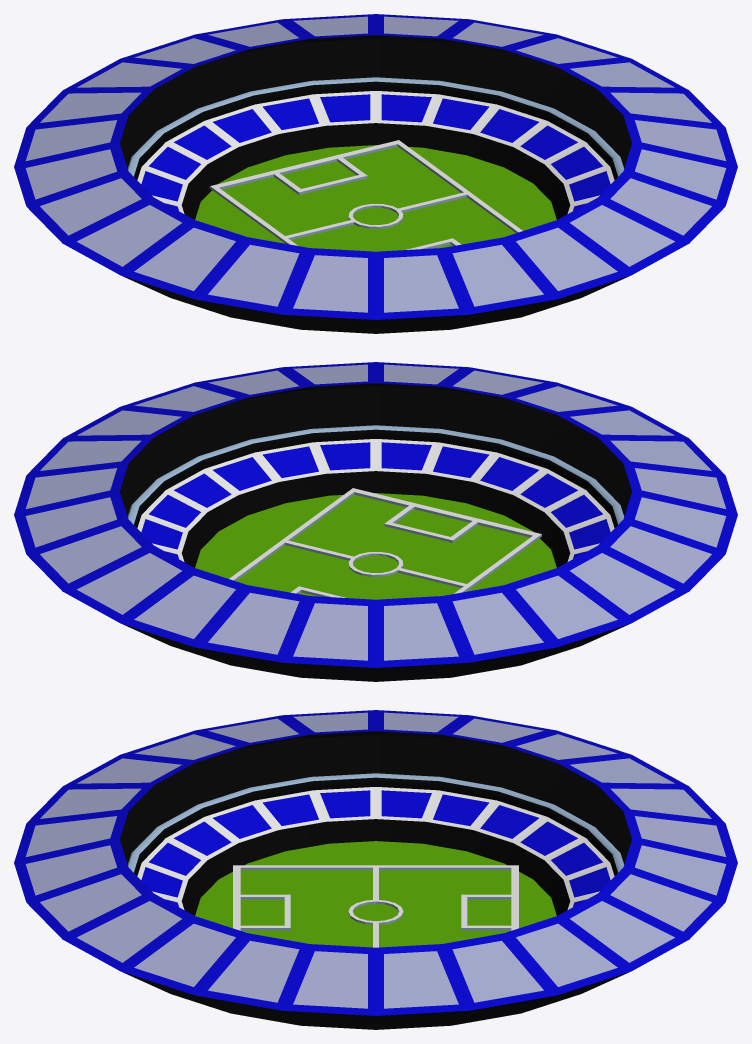
Rendered from Stadyum.fbx.
The picture shows the model from 3 angles, top to bottom: view 1: azimuth 30°, elevation 25°; view 2: azimuth 150°, elevation 25°; view 3: azimuth 270°, elevation 25°; orthographic projection.
Visible parts, largest first — view 1: Circle.001; view 2: Circle.001; view 3: Circle.001.
Part boxes in pixels (x1=…): Circle.001: x1=14, y1=14, x2=737, y2=333; Circle.001: x1=14, y1=362, x2=737, y2=681; Circle.001: x1=14, y1=710, x2=737, y2=1029.
Size of the model in its own units: 96.26 by 12.73 by 96.26.
